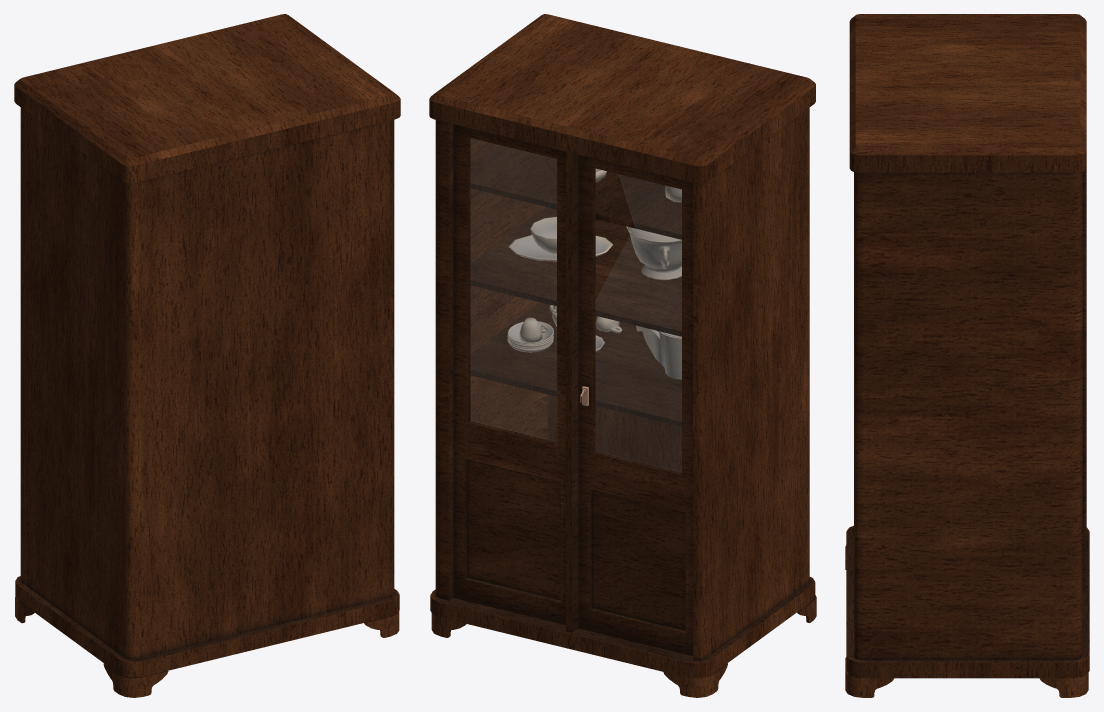
File: old_soviet_sideboard.glb
The picture shows the model from 3 angles, left to right: view 1: azimuth 30°, elevation 25°; view 2: azimuth 150°, elevation 25°; view 3: azimuth 270°, elevation 25°; orthographic projection. The views are drawn at different scales.
Parts seen in each view (by area): view 1: Cube_low, Cube.001_low; view 2: Cube_low, Cube_low.001, Cube.002_low, tea_set_01_sugar_cup_01.001, Cube.001_low, Down, Saucer2.001, Saucer2.002; view 3: Cube_low, Cube.001_low.
Part boxes in pixels (x1,y1,x2,y2): Cube_low: (14,14,400,677); Cube.001_low: (15,597,399,697); Cube_low: (429,14,815,678); Cube_low.001: (471,138,681,471); Cube.002_low: (470,145,681,426); tea_set_01_sugar_cup_01.001: (626,226,681,280); Cube.001_low: (431,595,816,697); Down: (636,325,681,379); Saucer2.001: (508,234,612,261); Saucer2.002: (530,216,556,253); Cube_low: (846,14,1089,678); Cube.001_low: (845,545,1088,697).
Bounding box in the file's own units: 1.09 × 2 × 0.8075.
2 materials, 2 textured.
